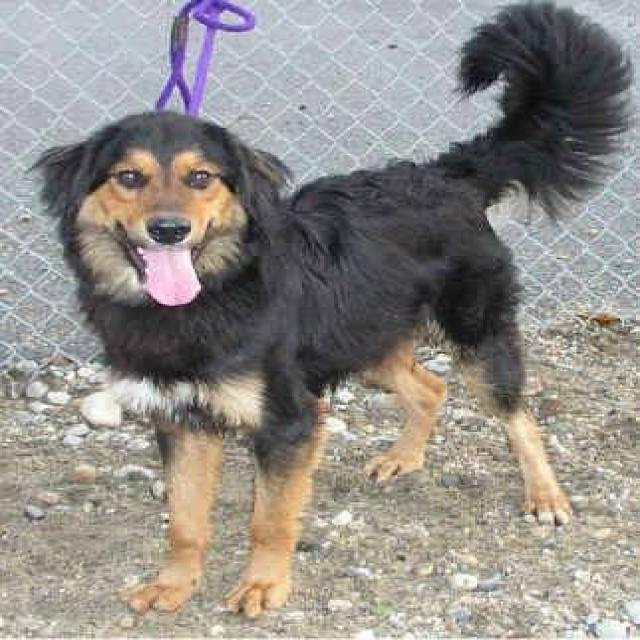Dog: (31, 105, 283, 320)
